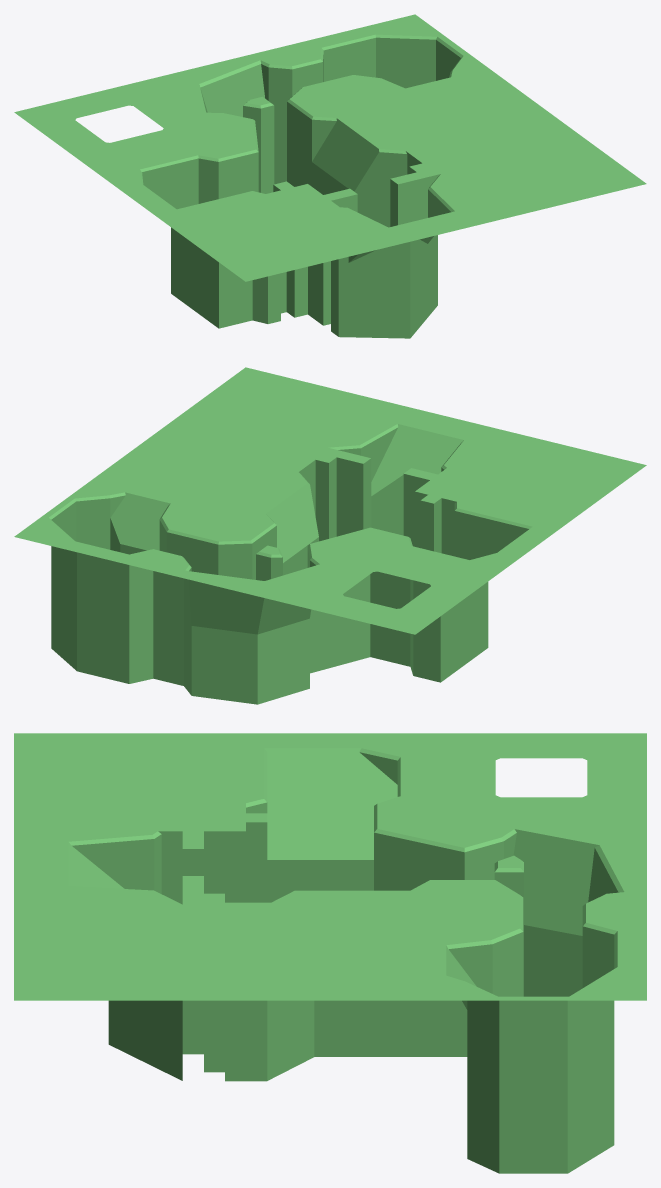
Rendered from x_oo_ground_45_Y3_1_rmstrd.fbx.
3 renders of one model, top to bottom at view 1: azimuth 30°, elevation 25°; view 2: azimuth 150°, elevation 25°; view 3: azimuth 270°, elevation 25°, orthographic. The views are drawn at different scales.
Parts seen in each view (by area): view 1: x_oo_ground_45_Y3_1_rmstrd1; view 2: x_oo_ground_45_Y3_1_rmstrd1; view 3: x_oo_ground_45_Y3_1_rmstrd1.
Boxes of the visible parts, x1=… form: x_oo_ground_45_Y3_1_rmstrd1: x1=14, y1=14, x2=646, y2=338; x_oo_ground_45_Y3_1_rmstrd1: x1=14, y1=367, x2=646, y2=704; x_oo_ground_45_Y3_1_rmstrd1: x1=14, y1=733, x2=646, y2=1173.
Size of the model in its own units: 30 by 9.34 by 30.
